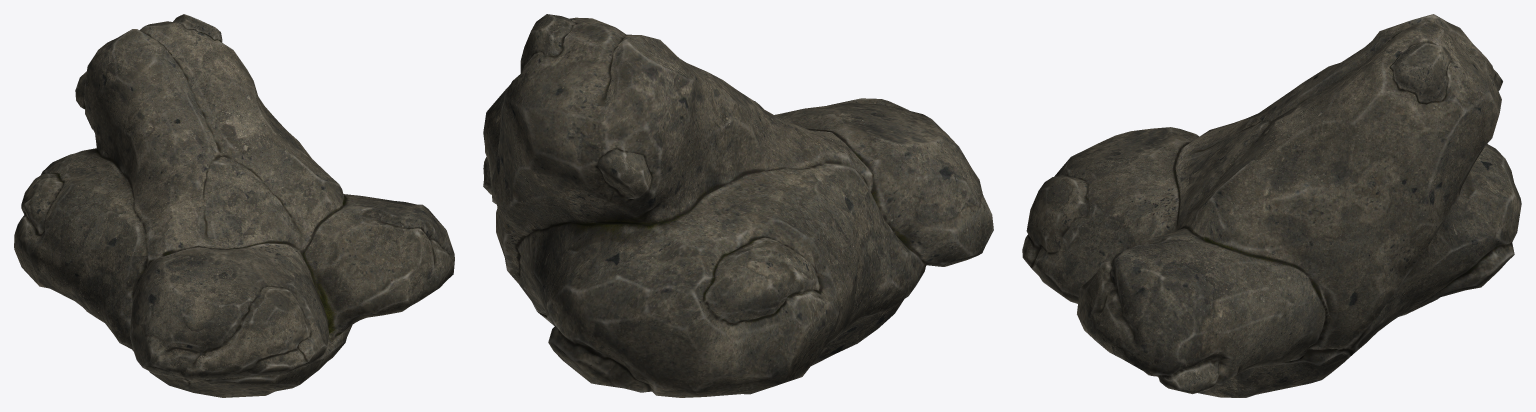
The model's file is cave_rocks_medium_03.dae.
3 renders of one model, left to right at view 1: azimuth 30°, elevation 25°; view 2: azimuth 150°, elevation 25°; view 3: azimuth 270°, elevation 25°, orthographic. The views are drawn at different scales.
Parts seen in each view (by area): view 1: low; view 2: low; view 3: low.
Part boxes in pixels (x1,y1,x2,y2): low: (14,14,454,397); low: (483,14,993,397); low: (1022,14,1521,397).
Bounding box in the file's own units: 3.2 × 2.71 × 3.48.
